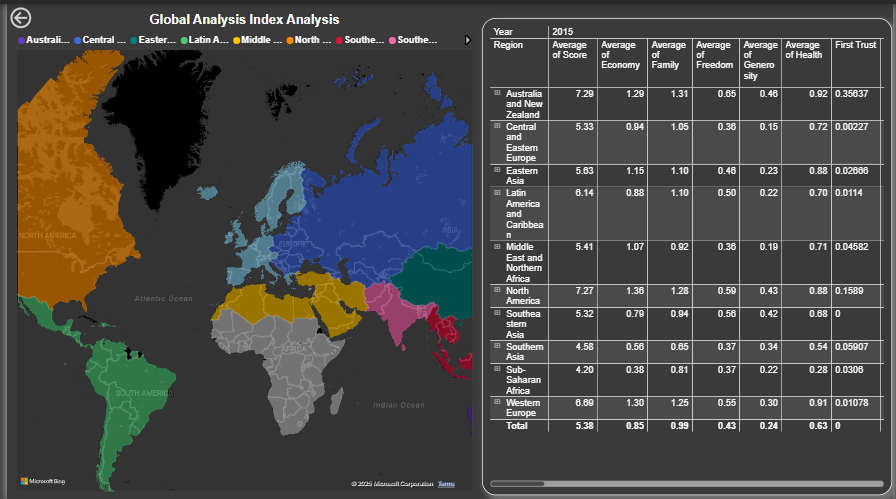

What the dashboard file says about the page in this screenshot:
{"tool":"powerbi","page":{"name":"Page 3","canvas":[1280,720],"ordinal":2},"visuals":[{"type":"filledMap","title":"Global Analysis Index Analysis","fields":{"Category":["Happiness_Data.Country"],"Series":["Happiness_Data.Region"]},"box":[10.1,11.6,666.5,698.3],"z":0},{"type":"actionButton","box":[0,0,100,40],"z":1},{"type":"pivotTable","fields":{"Rows":["Happiness_Data.Region","Happiness_Data.Country"],"Columns":["Happiness_Data.Year"],"Values":["Avg(Happiness_Data.Score)","Avg(Happiness_Data.Economy)","Avg(Happiness_Data.Family)","Avg(Happiness_Data.Freedom)","Avg(Happiness_Data.Generosity)","Avg(Happiness_Data.Health)","Min(Happiness_Data.Trust)","Avg(Happiness_Data.Rank)"]},"box":[686.7,20.2,592.8,689.6],"z":2}]}

Visuals, with their boxes on the page's 1280x720 design canvas (x1, y1, x2, y2). These are canvas units, not pixel positions in the 896x499 screenshot, which may show the page scaled, cropped or inside an application window:
"Global Analysis Index Analysis" filledMap: bbox=[10, 12, 677, 710]
actionButton: bbox=[0, 0, 100, 40]
pivotTable - Happiness_Data.Region x Happiness_Data.Country: bbox=[687, 20, 1280, 710]
